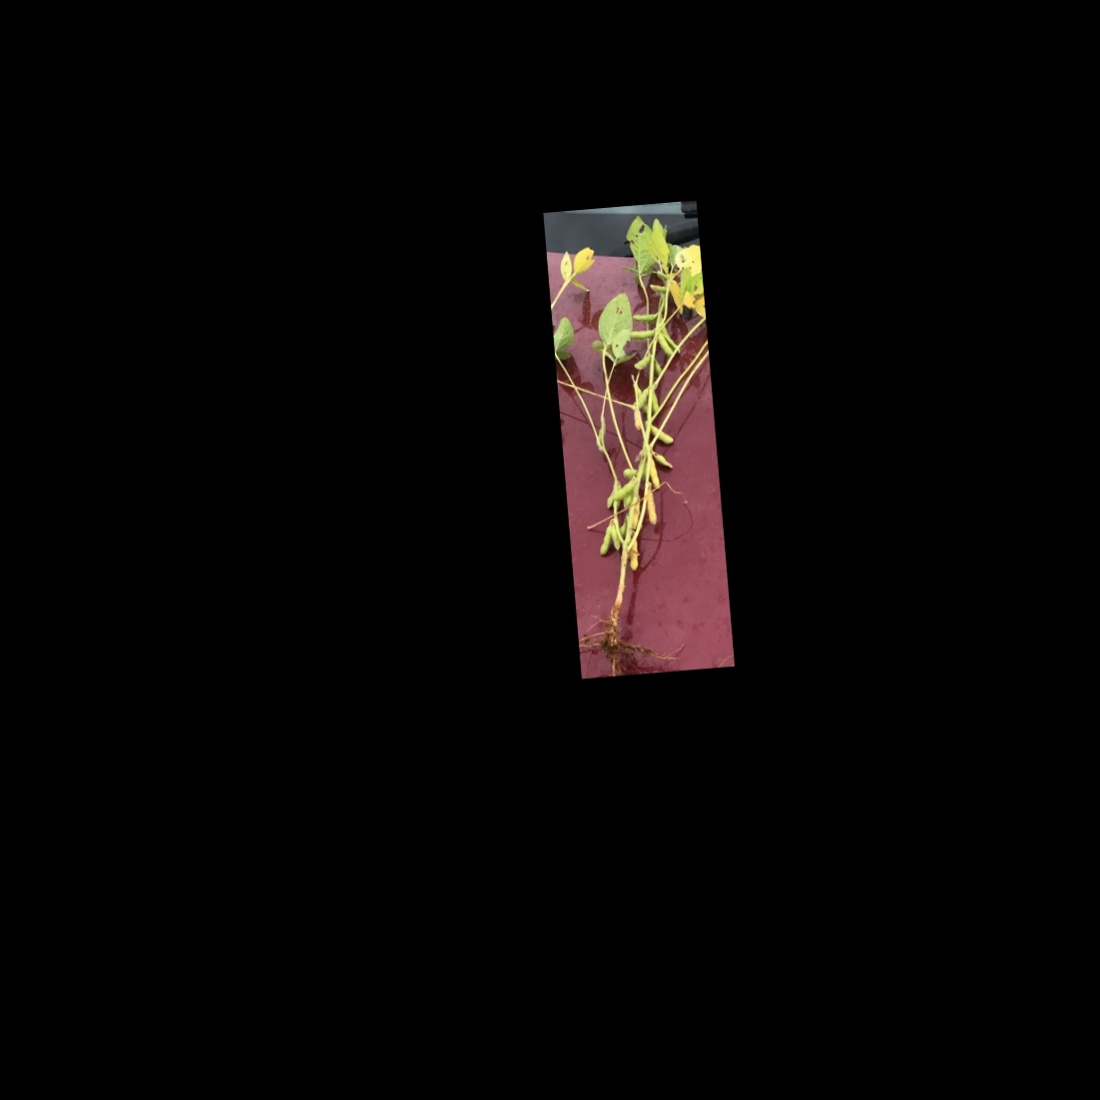pod: (592, 520, 620, 559), (643, 480, 662, 527), (647, 421, 676, 446), (630, 383, 652, 414), (629, 350, 655, 372), (625, 326, 658, 341), (644, 279, 669, 297), (629, 311, 660, 324)
soy: (546, 213, 729, 672)
